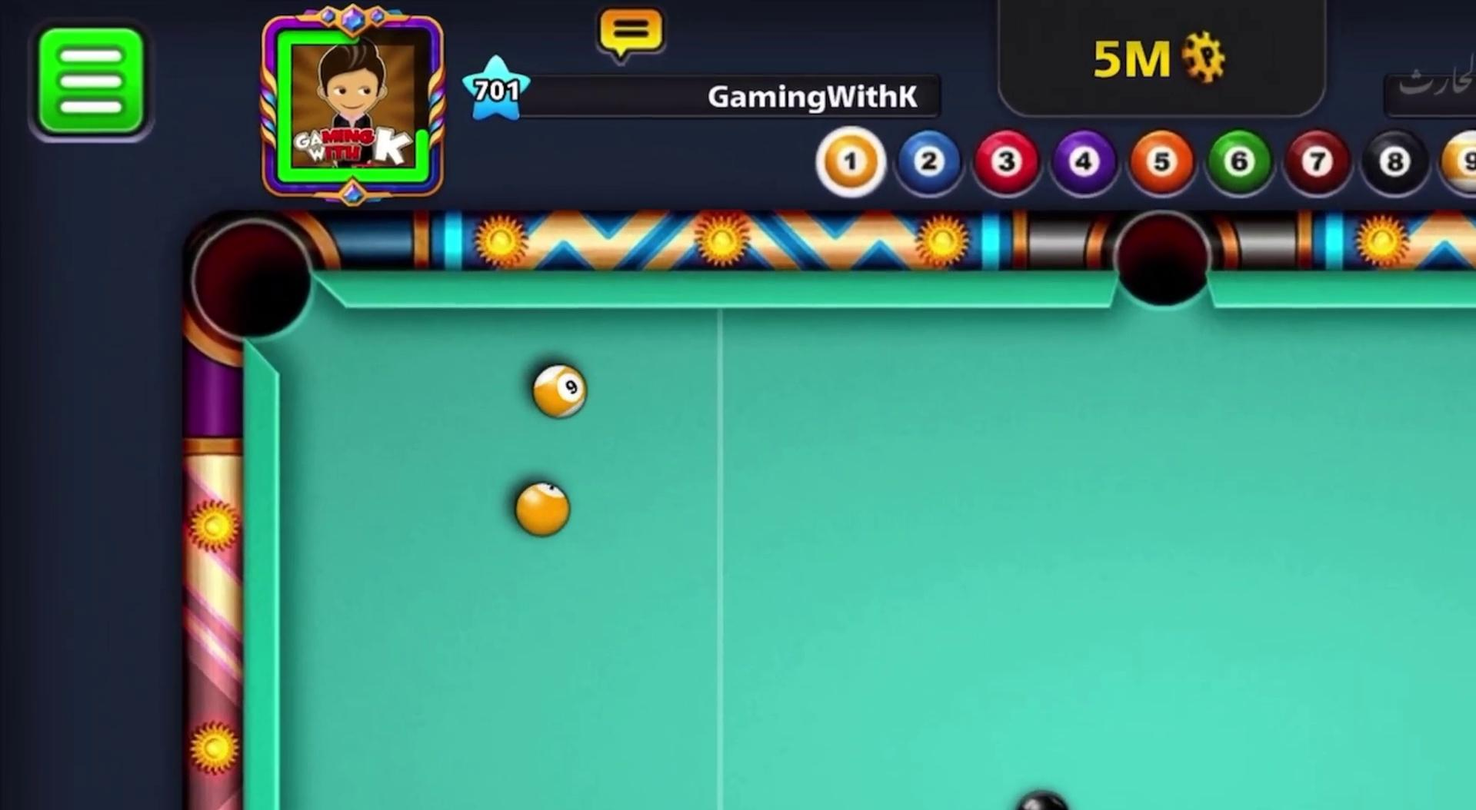Ball: (524, 355, 607, 440), (507, 470, 592, 550)
Hole: (185, 193, 352, 373), (1105, 192, 1223, 319)
